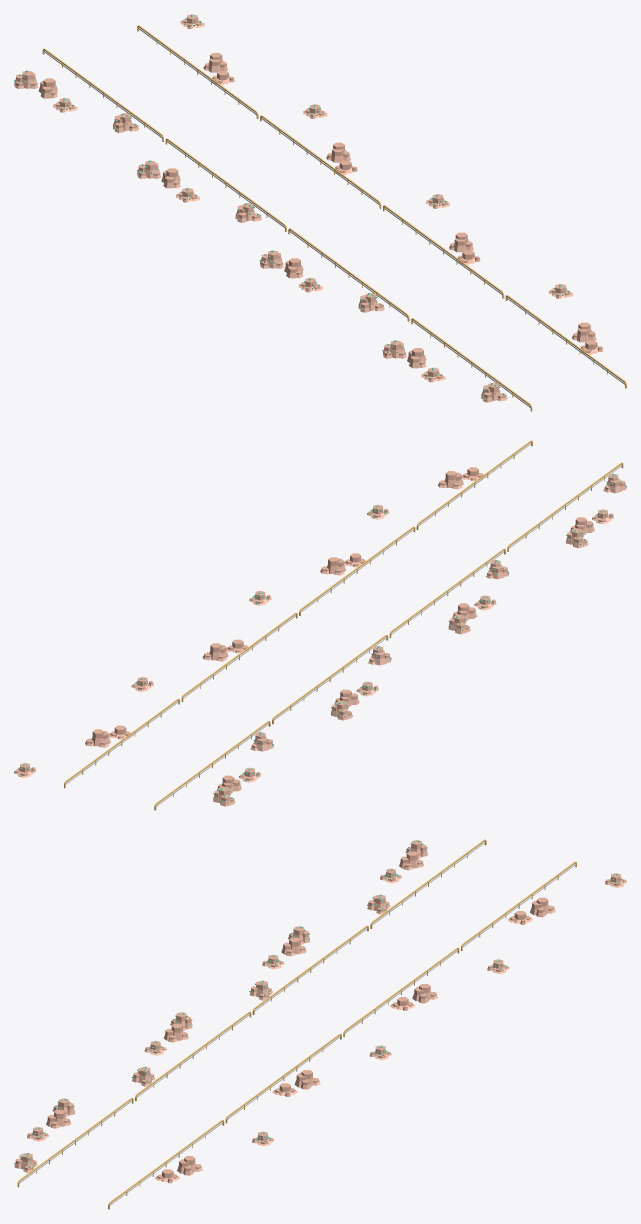
Rendered from road_massive_straight.glb.
3 views of the same model, one above another, from view 1: azimuth 30°, elevation 25°; view 2: azimuth 150°, elevation 25°; view 3: azimuth 330°, elevation 25° (orthographic). The views are drawn at different scales.
Parts seen in each view (by area): view 1: RoadStraight; view 2: RoadStraight; view 3: RoadStraight.
Boxes of the visible parts, x1=… form: RoadStraight: x1=14, y1=14, x2=626, y2=411; RoadStraight: x1=14, y1=440, x2=626, y2=810; RoadStraight: x1=14, y1=839, x2=626, y2=1209.
Bounding box in the file's own units: 8.8 × 0.55 × 35.8.
